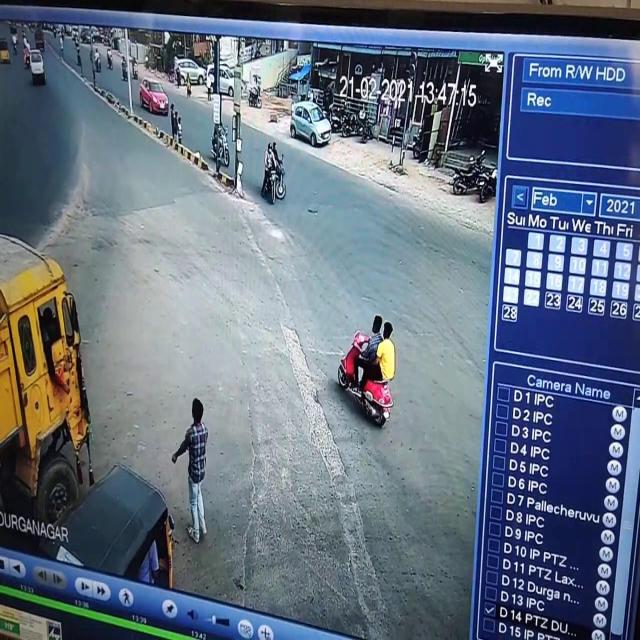accident: (256, 119, 290, 217)
